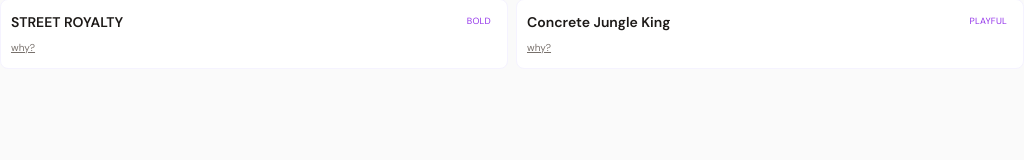
Test case: PhraseChips › keeps the reason hidden until "why?" is tapped
Expected: the text "Short, punchy, reads at a glance on a tee." is not shown
Click the 1st button "why?" at (23, 48), box [11,40,35,55]
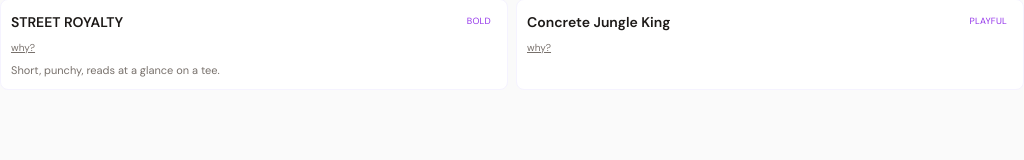
Now the text "Short, punchy, reads at a glance on a tee." is shown, box [11,63,220,77]
